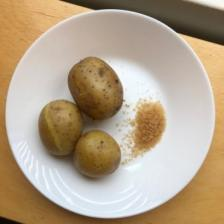Potato: (67, 56, 124, 122), (36, 98, 83, 162), (72, 127, 123, 180)
